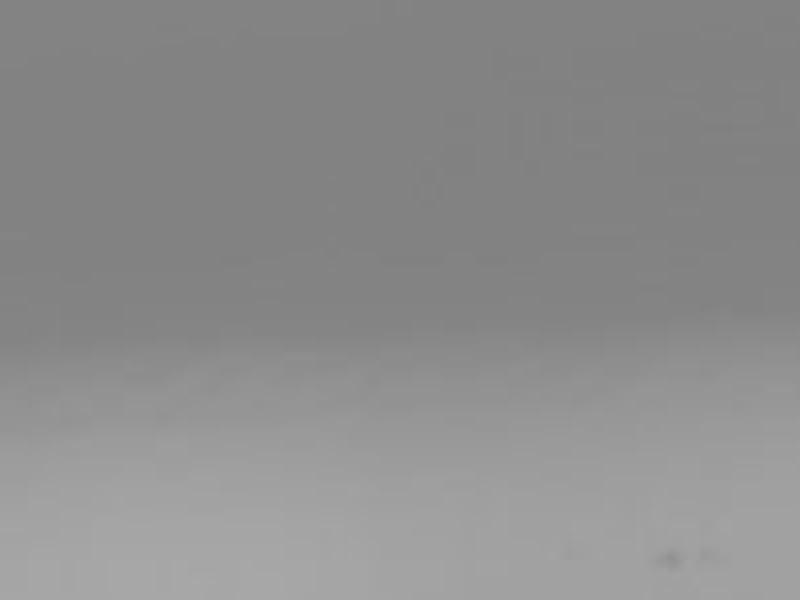defect: (695, 542, 729, 571), (654, 548, 687, 573)
